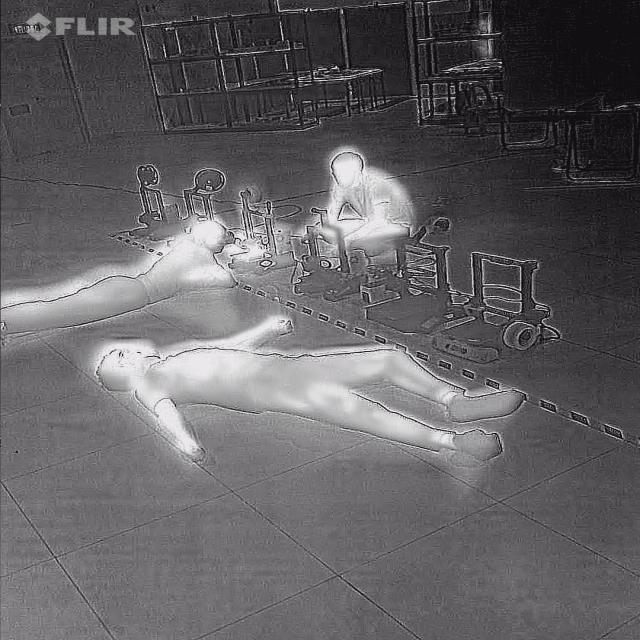Victim: (81, 311, 533, 473), (0, 207, 244, 349), (303, 145, 419, 267)
